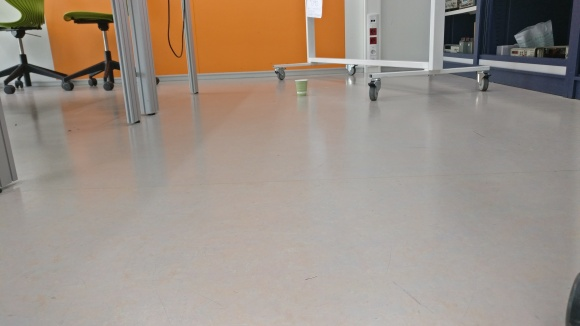cup: (293, 78, 309, 96)
